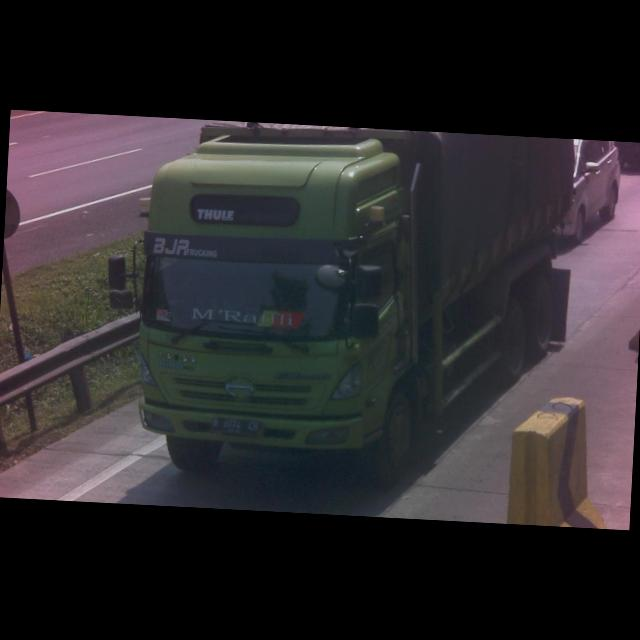plate: (208, 414, 266, 436)
